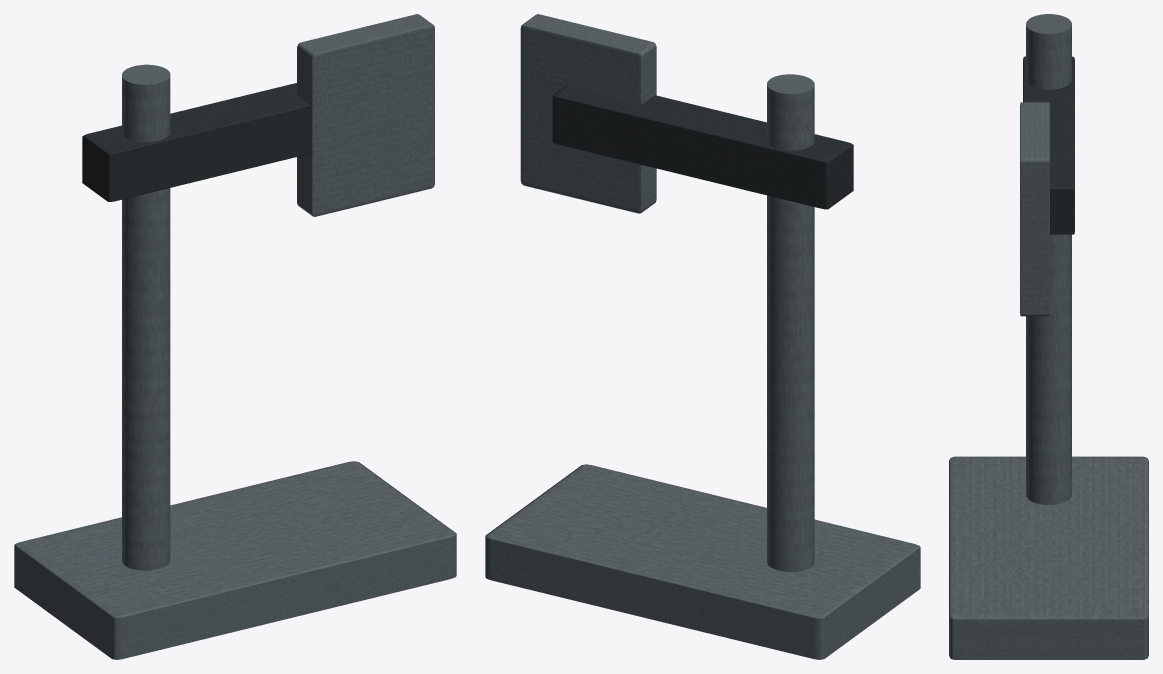
Rendered from display-arm.glb.
3 views of the same model, side by side, from view 1: azimuth 30°, elevation 25°; view 2: azimuth 150°, elevation 25°; view 3: azimuth 270°, elevation 25° (orthographic). The views are drawn at different scales.
Visible parts, largest first — view 1: foot, plate, stem, arm; view 2: foot, stem, arm, plate; view 3: foot, stem, plate, arm.
Part boxes in pixels (<box>): foot: <box>14,461,456,659</box>; plate: <box>297,14,434,216</box>; stem: <box>122,64,170,570</box>; arm: <box>82,83,310,201</box>; foot: <box>485,464,920,659</box>; stem: <box>767,74,814,571</box>; arm: <box>552,86,853,209</box>; plate: <box>520,14,656,213</box>; foot: <box>949,456,1148,659</box>; stem: <box>1026,14,1071,504</box>; plate: <box>1020,102,1049,316</box>; arm: <box>1023,56,1074,234</box>.
Size of the model in its own units: 0.2604 by 0.3686 by 0.13.
Materials: 2 (2 with a texture image).
